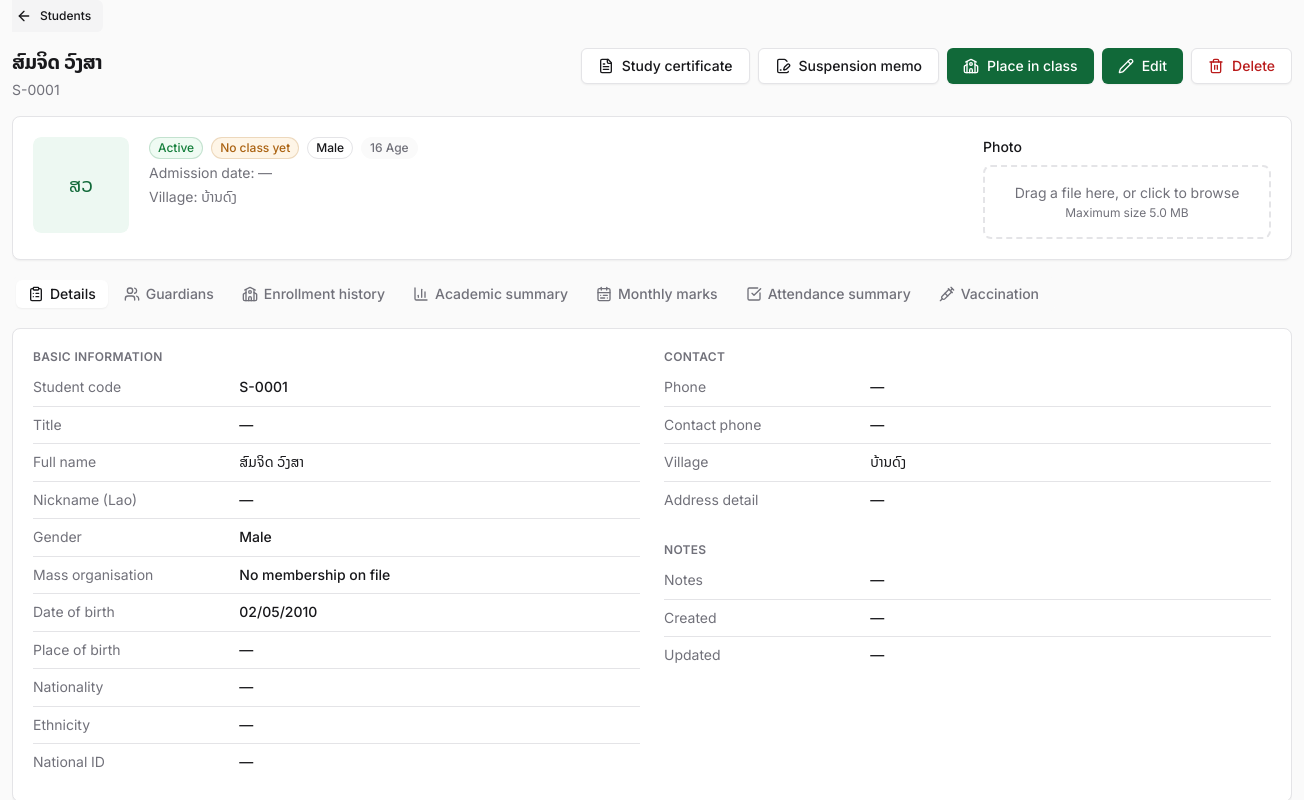
Test: lists siblings under the guardians tab, with the link that makes them siblings
This screenshot has width=1304, height=800.
Click the tab "Guardians" at (169, 294), box [112,280,226,308]
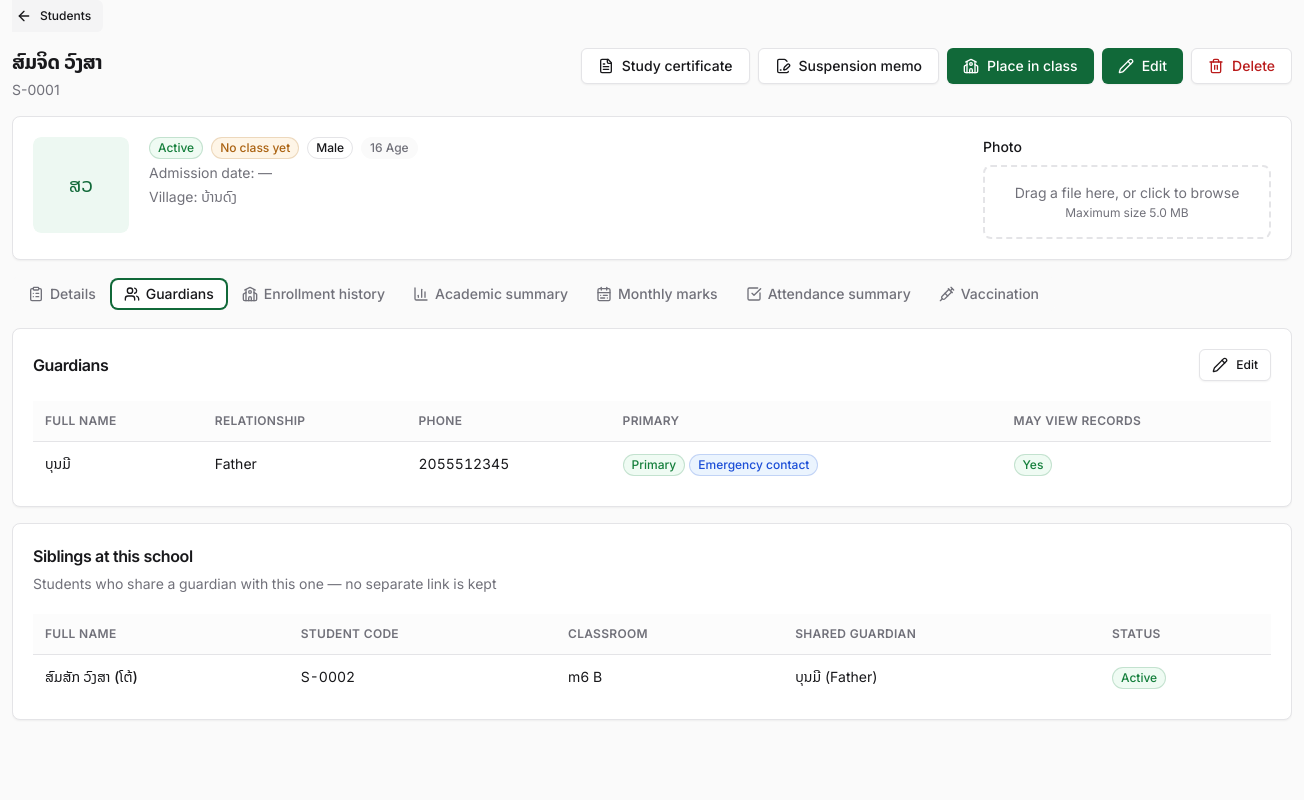
expect the text "ສົມສັກ ວົງສາ (ໂຕ້) S-0002 m6 B ບຸນມີ (Father) Active" is shown: met, box [33,654,1271,699]
